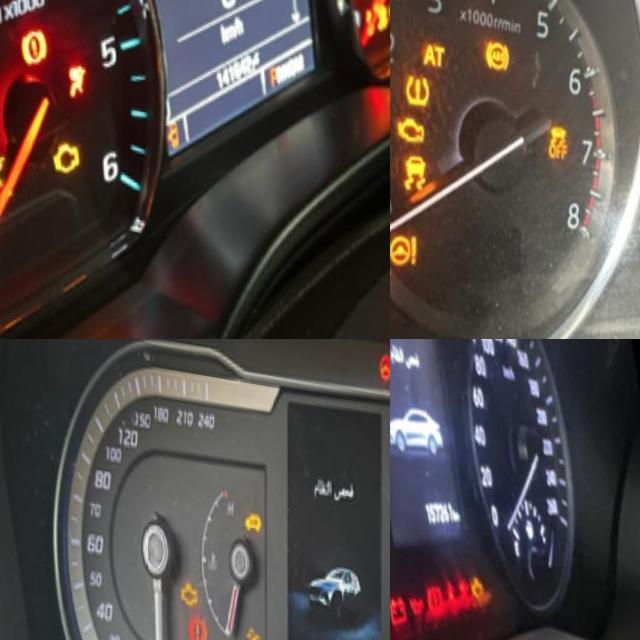Electronic Power Steering: (390, 228, 428, 273)
